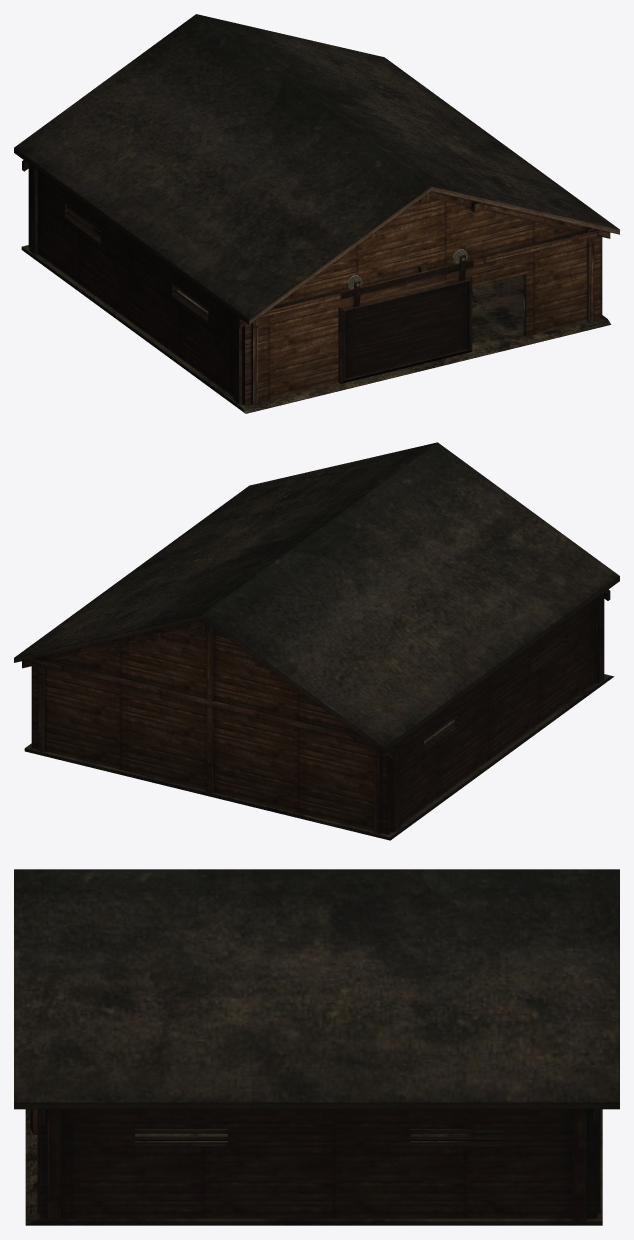
The model's file is barn.glb.
3 views of the same model, one above another, from view 1: azimuth 30°, elevation 25°; view 2: azimuth 150°, elevation 25°; view 3: azimuth 270°, elevation 25° (orthographic). The views are drawn at different scales.
Visible parts, largest first — view 1: Barn; view 2: Barn; view 3: Barn.
Part boxes in pixels (x1,y1,x2,y2): Barn: (14,14,619,413); Barn: (14,442,619,840); Barn: (14,869,619,1225).
Size of the model in its own units: 8.96 by 4.31 by 9.85.
1 material, 1 textured.
